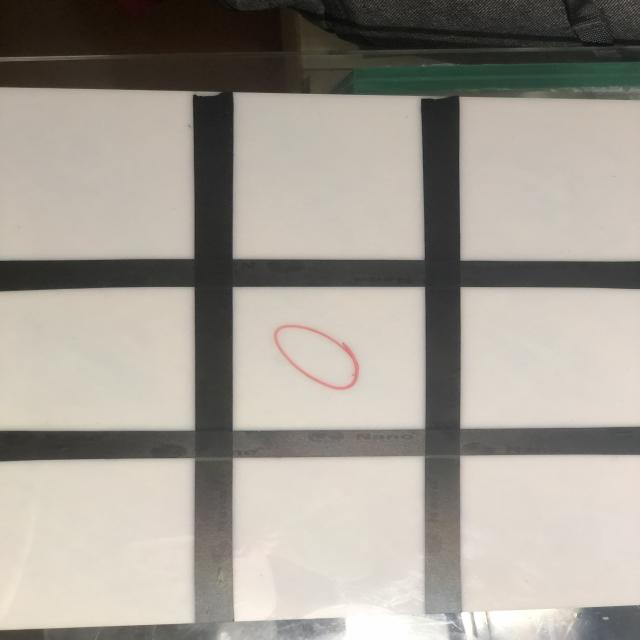null: (1, 84, 195, 258), (230, 93, 425, 264), (0, 455, 194, 626), (234, 459, 425, 618), (459, 98, 638, 264), (0, 288, 197, 431), (465, 454, 633, 610), (457, 289, 640, 430)
o: (266, 321, 373, 398)
table: (0, 86, 637, 630)
